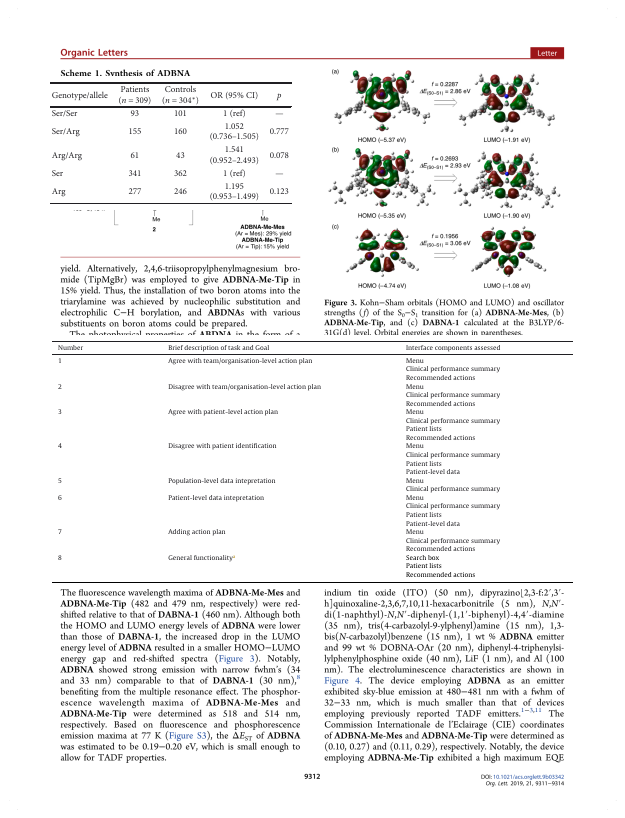borderless: (51, 340, 573, 582), (50, 81, 292, 204)
cell: (404, 409, 500, 443), (404, 443, 500, 477), (404, 495, 500, 529), (404, 383, 500, 409), (404, 358, 500, 383), (404, 529, 500, 554), (404, 555, 476, 580), (404, 477, 500, 494), (167, 383, 321, 392), (167, 358, 313, 366), (208, 122, 259, 143), (208, 145, 259, 166), (208, 182, 259, 203), (167, 443, 277, 452), (167, 477, 276, 486), (167, 344, 270, 353), (167, 409, 278, 417), (404, 344, 501, 353), (161, 85, 200, 106), (167, 495, 264, 503), (117, 85, 152, 106), (50, 90, 108, 101), (167, 554, 236, 563), (209, 90, 259, 101), (167, 529, 226, 537), (50, 150, 83, 161), (50, 127, 80, 137), (50, 109, 78, 119), (56, 344, 84, 353), (222, 109, 246, 119), (222, 169, 246, 179), (268, 150, 289, 161), (268, 187, 289, 198), (268, 127, 289, 137), (50, 187, 66, 198), (127, 187, 142, 198), (173, 187, 188, 198), (173, 109, 188, 119), (127, 127, 142, 137), (173, 127, 188, 137), (127, 169, 142, 179), (173, 169, 188, 179), (50, 169, 64, 179), (129, 150, 140, 161), (129, 109, 140, 119), (175, 150, 185, 161), (276, 92, 282, 101), (56, 383, 62, 392), (56, 443, 62, 452), (56, 477, 62, 486), (56, 358, 62, 366), (56, 409, 62, 417), (56, 495, 62, 503), (56, 529, 62, 537), (56, 555, 62, 563), (274, 113, 284, 117), (274, 173, 284, 177)
